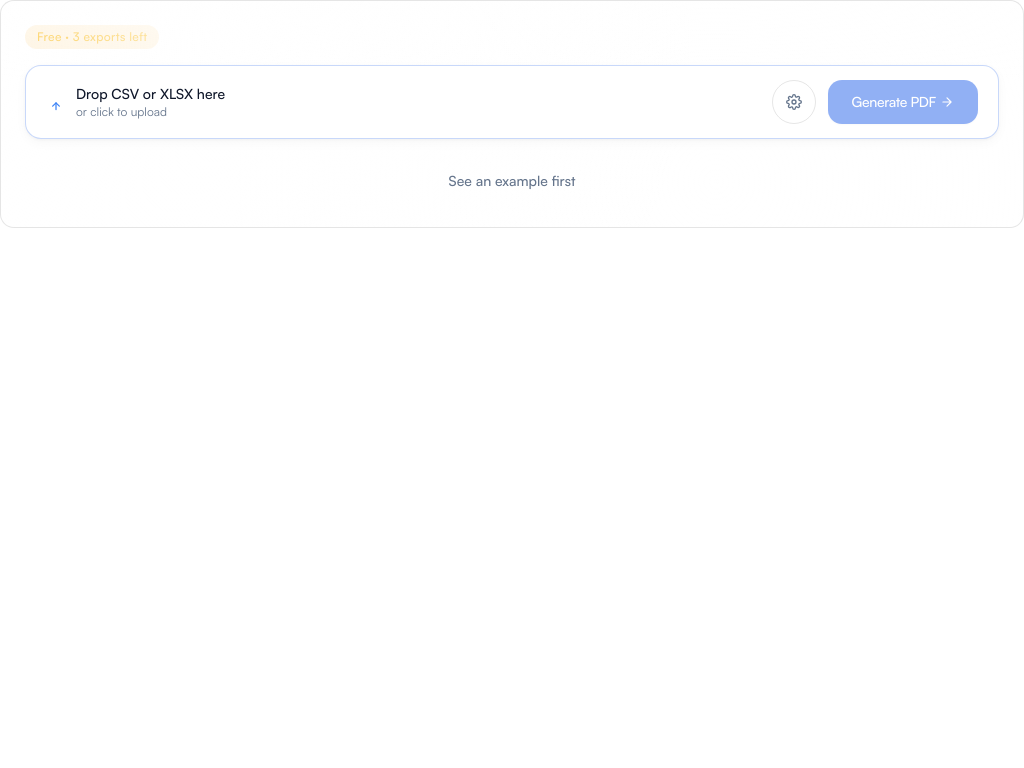
Test: UploadCard unit behavior › options section is an accordion and can be collapsed/expanded
The image size is (1024, 768).
Check: the switch labelled "Branding" is not shown
Click the button named "Advanced options".
click(794, 102)  # box x1=772 y1=80 x2=816 y2=124
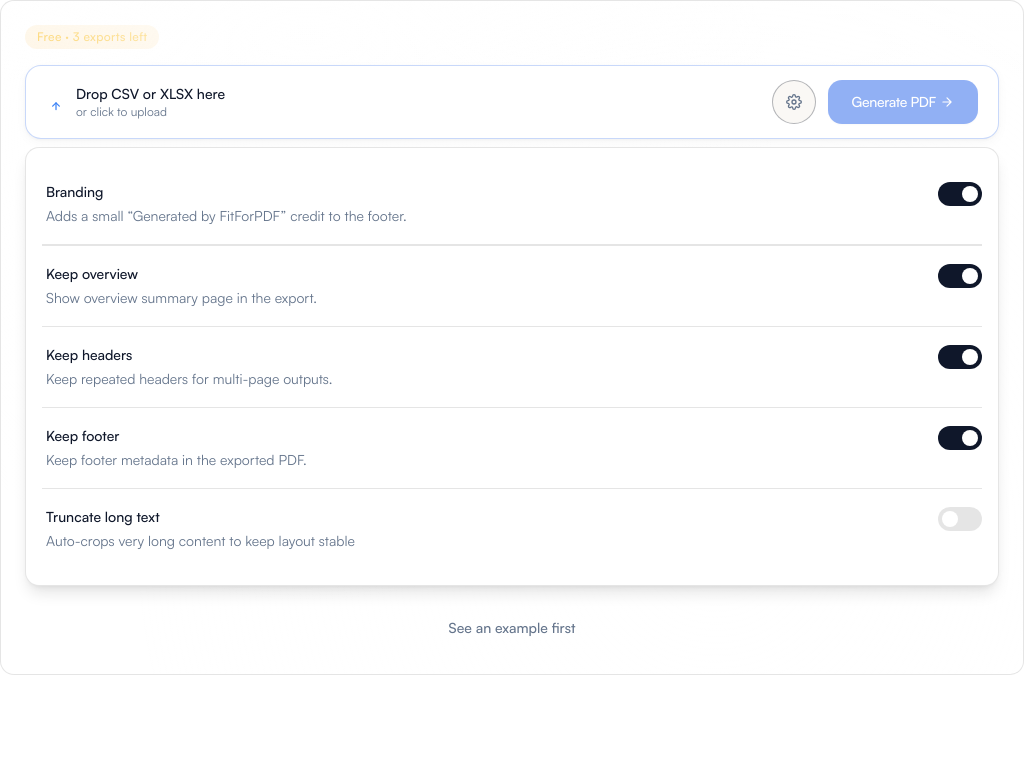
Check: the button named "Advanced options" is expanded
Check: the switch named "Branding" is shown, box x1=938 y1=182 x2=982 y2=206
Click the button named "Advanced options".
click(794, 102)  # box x1=772 y1=80 x2=816 y2=124
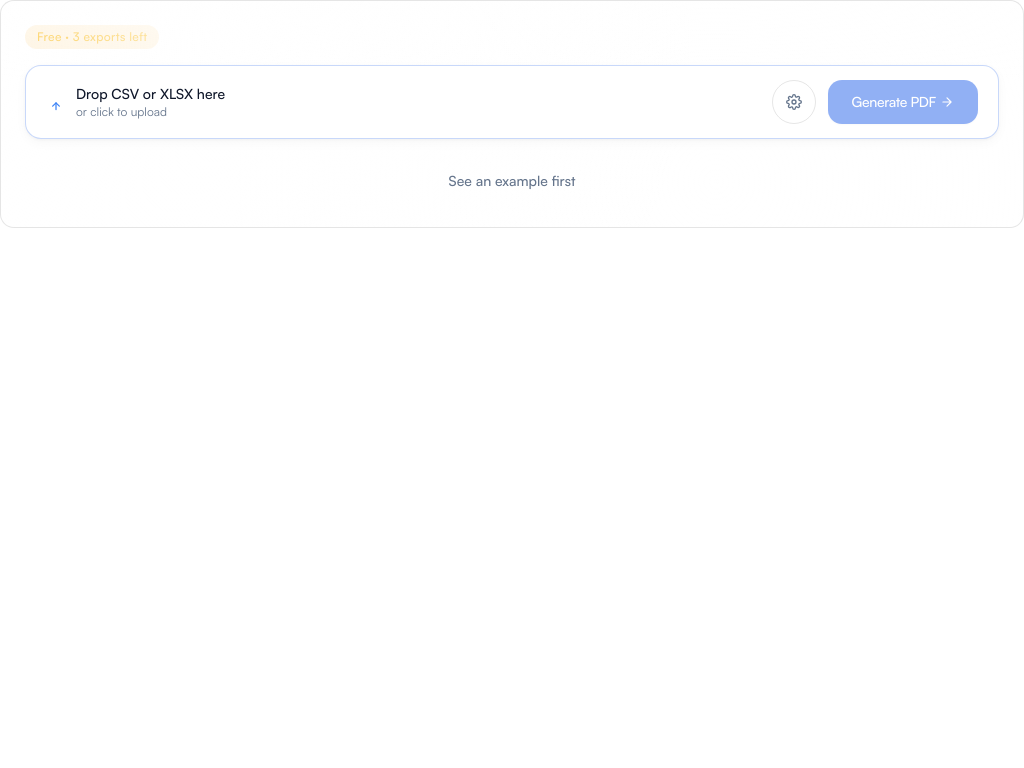
Check: the button named "Advanced options" is collapsed, box x1=772 y1=80 x2=816 y2=124
Check: the element with test id "upload-options" is gone
Check: the button "Branding" is gone
